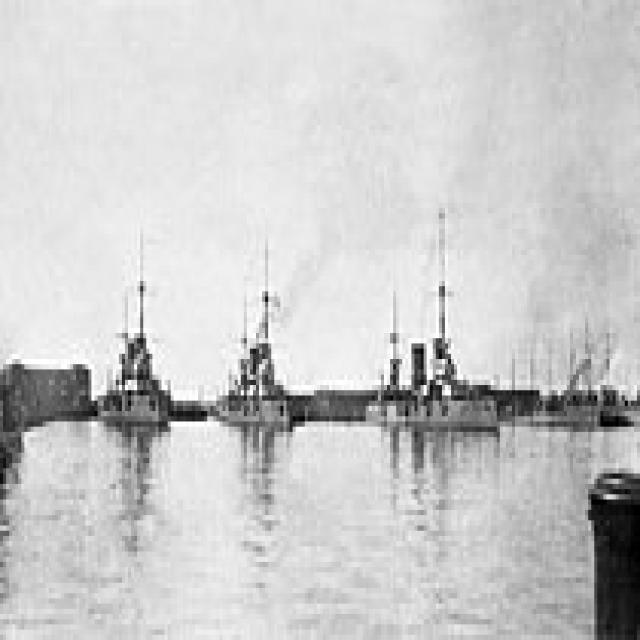Warship: (356, 198, 503, 426), (204, 234, 302, 432), (94, 224, 170, 426)
